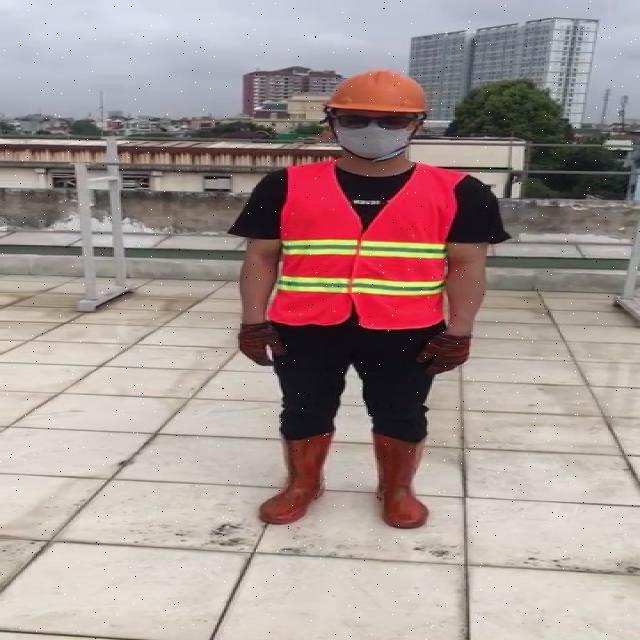Hard_hat: (316, 67, 433, 128)
Vest: (271, 158, 452, 330)
